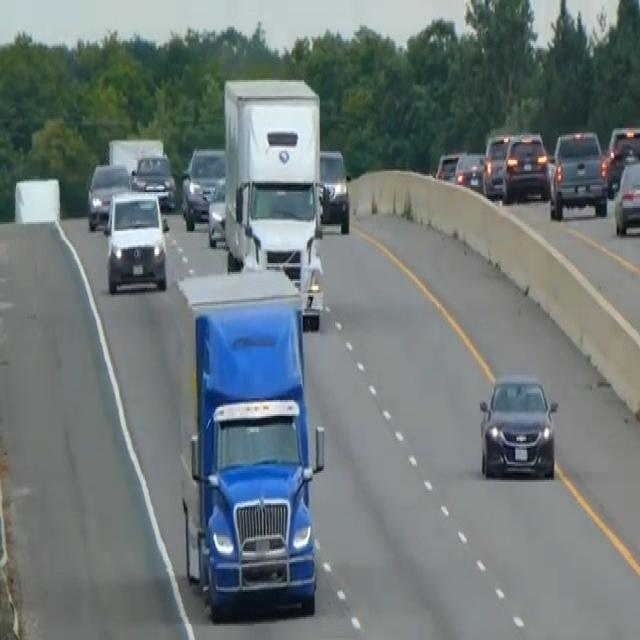car: (477, 370, 559, 480), (548, 127, 608, 220), (180, 144, 225, 229), (501, 130, 549, 202), (86, 160, 130, 229), (130, 149, 176, 210), (318, 146, 350, 233), (605, 122, 639, 194), (613, 156, 639, 236), (481, 132, 512, 198), (206, 178, 227, 247), (453, 149, 485, 192), (435, 148, 463, 182)
lorry: (175, 265, 325, 620), (221, 73, 325, 325)
minivan: (103, 187, 168, 293)
